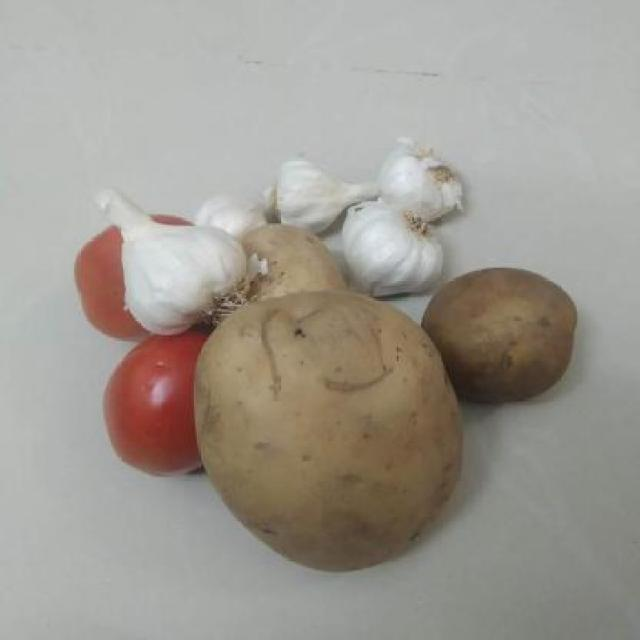Garlic: (94, 184, 251, 330), (334, 196, 444, 296), (382, 131, 484, 214), (264, 158, 374, 231)
Potato: (203, 289, 464, 577), (426, 258, 609, 411)
Tomato: (90, 336, 204, 482)
